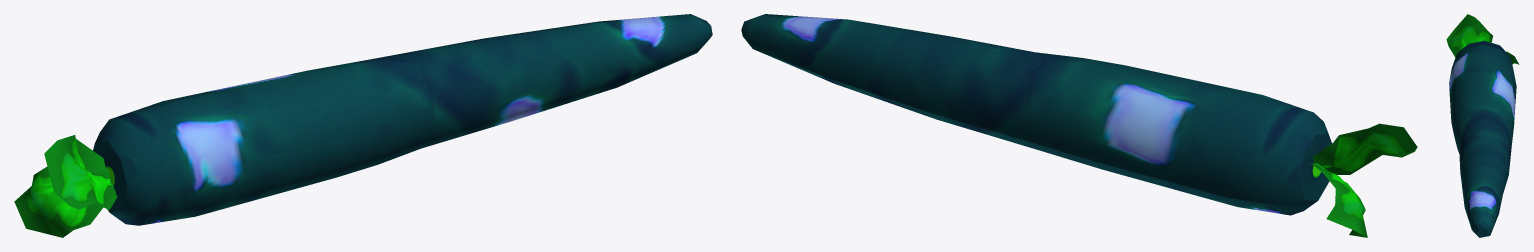
File: fant_homing_carrot.obj
3 renders of one model, left to right at view 1: azimuth 30°, elevation 25°; view 2: azimuth 150°, elevation 25°; view 3: azimuth 270°, elevation 25°, orthographic. The views are drawn at different scales.
Parts seen in each view (by area): view 1: fant_homing_carrot_Mesh.001; view 2: fant_homing_carrot_Mesh.001; view 3: fant_homing_carrot_Mesh.001.
Part boxes in pixels (x1,y1,x2,y2): fant_homing_carrot_Mesh.001: (14, 14, 712, 237); fant_homing_carrot_Mesh.001: (741, 14, 1417, 237); fant_homing_carrot_Mesh.001: (1446, 14, 1519, 237).
Bounding box in the file's own units: 5.99 × 0.9412 × 0.9786.
